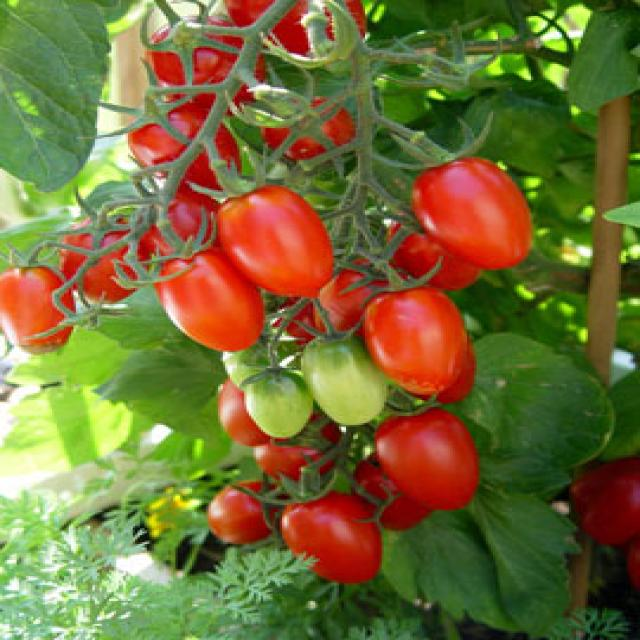overripe: (412, 142, 536, 272), (219, 185, 339, 300), (363, 276, 469, 399), (144, 15, 274, 114), (148, 241, 266, 350), (372, 406, 489, 511), (116, 103, 242, 198), (280, 488, 383, 590), (223, 0, 370, 58), (63, 216, 145, 308), (0, 263, 76, 356), (207, 478, 281, 546), (216, 379, 262, 454)
unripe: (301, 331, 386, 428), (244, 372, 314, 438)
